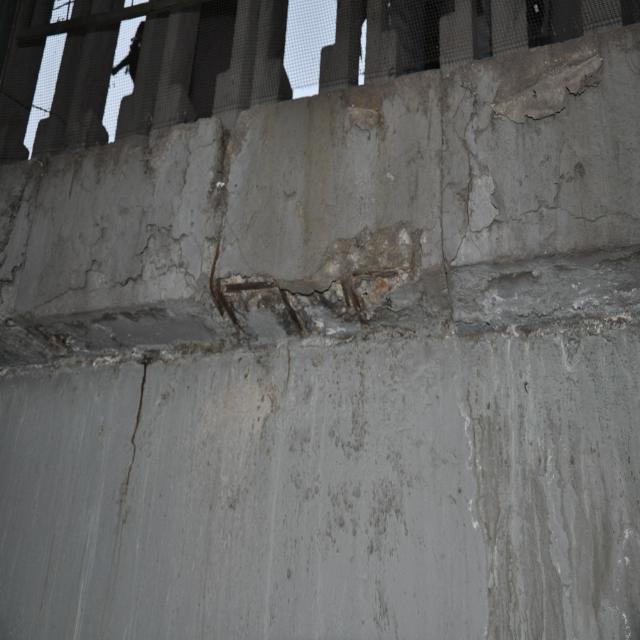Rebar: (206, 220, 424, 347)
concrete spalling: (453, 198, 640, 262), (207, 119, 244, 212)
